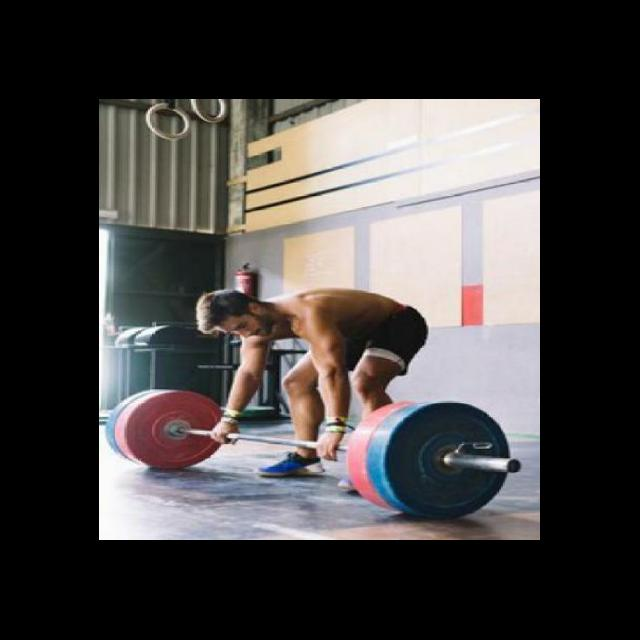barbell: (380, 398, 533, 524)
